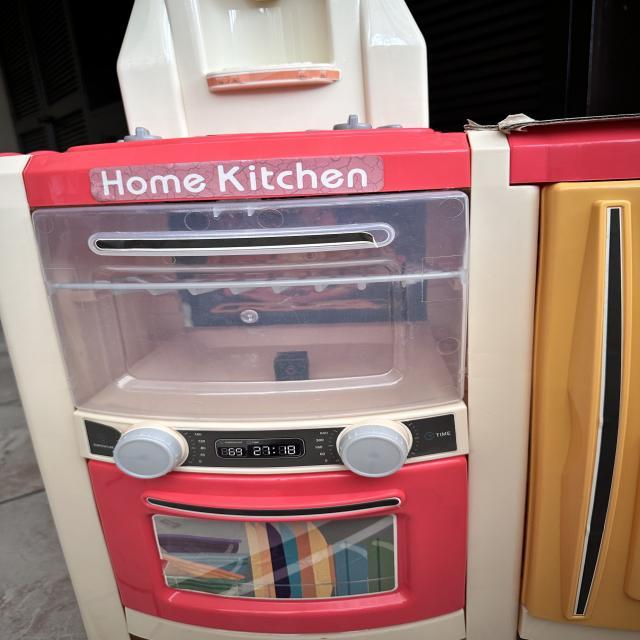hidden camera: (282, 365, 299, 376)
